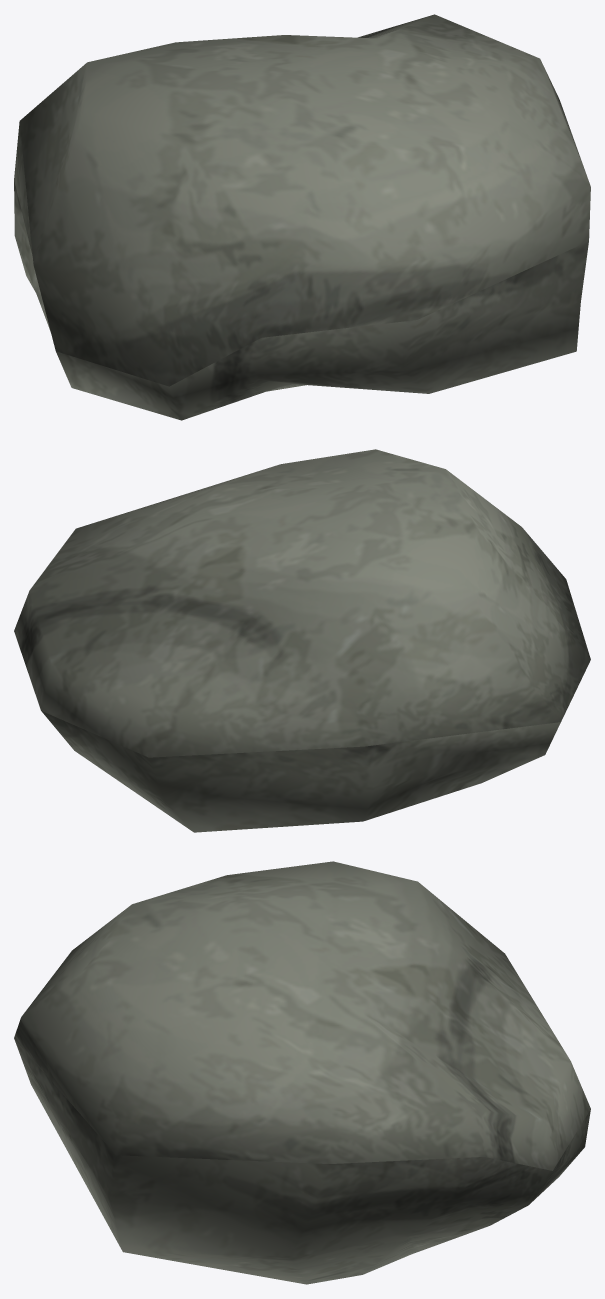
The model's file is Rock(Smooth).FBX.
3 renders of one model, top to bottom at view 1: azimuth 30°, elevation 25°; view 2: azimuth 150°, elevation 25°; view 3: azimuth 270°, elevation 25°, orthographic. The views are drawn at different scales.
Parts seen in each view (by area): view 1: Sphere003; view 2: Sphere003; view 3: Sphere003.
Boxes of the visible parts, x1=… form: Sphere003: x1=14, y1=14, x2=590, y2=420; Sphere003: x1=14, y1=449, x2=590, y2=832; Sphere003: x1=14, y1=861, x2=590, y2=1284.
Bounding box in the file's own units: 3 × 1.77 × 3.02.
